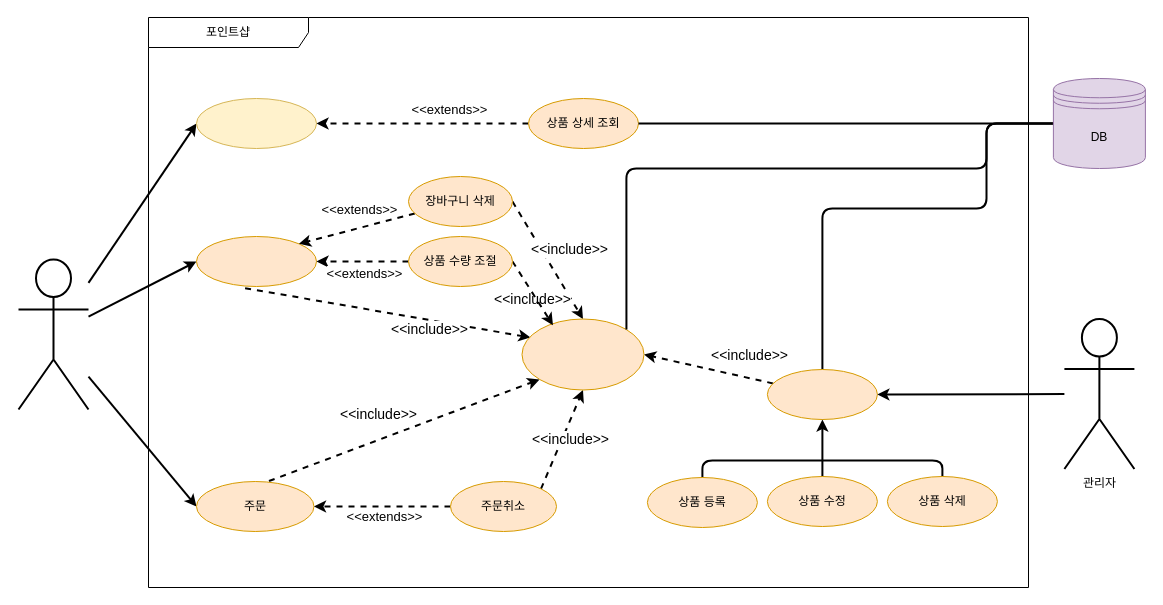
This 1163x605 diagram has some shape labels left out. The shapes that lost their labels are listed below. From the top down, each one's centre as x and y in pixels, then its label:
the point at 256,123: 상품 목록 조회
the point at 256,261: 장바구니 상품 담기
the point at 53,334: 사용자
the point at 582,354: 사용자 정보
the point at 821,394: 상품 관리
